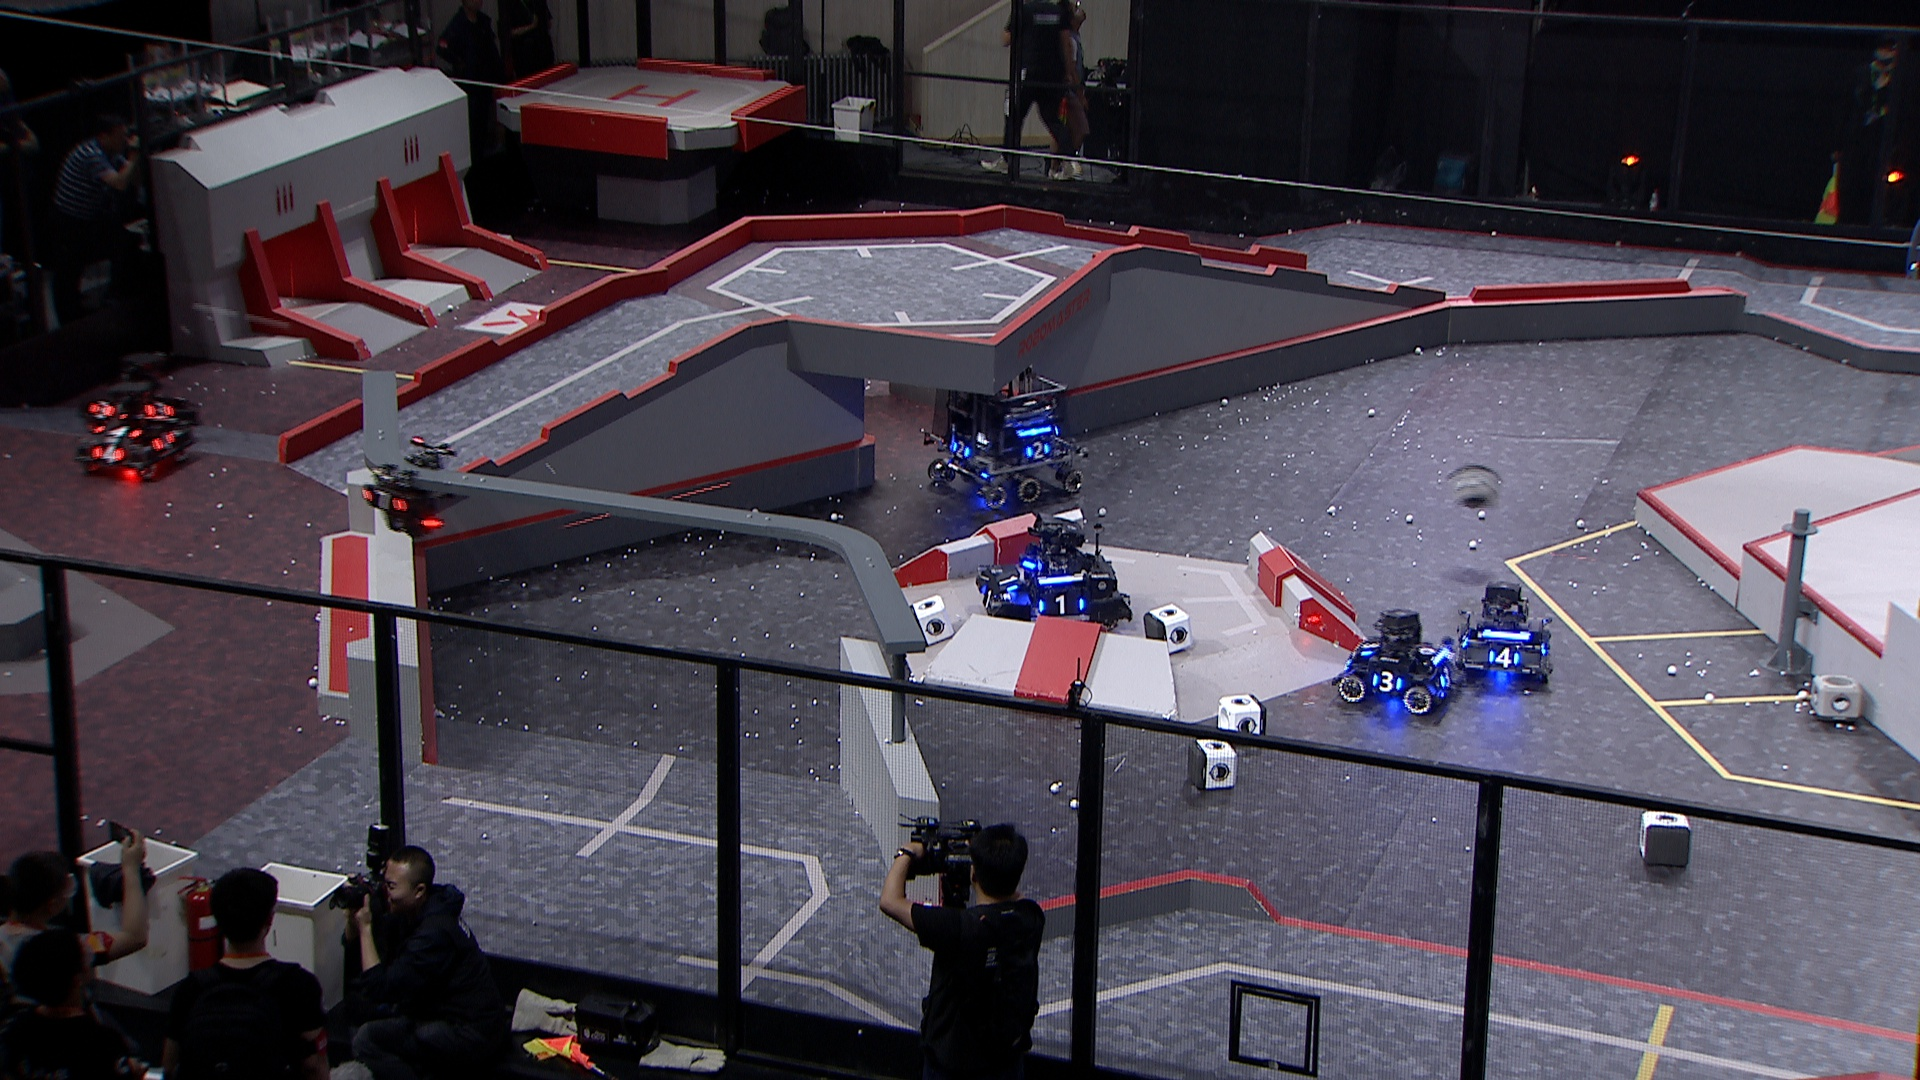armor: (363, 487, 410, 516), (1036, 593, 1088, 617), (1485, 647, 1523, 670), (92, 443, 128, 467), (92, 423, 142, 439), (1371, 670, 1403, 694), (141, 400, 175, 419), (994, 568, 1021, 593), (87, 401, 117, 422), (978, 584, 1001, 612), (150, 431, 178, 452), (949, 439, 973, 462), (1026, 440, 1051, 462), (1360, 638, 1381, 659), (1437, 666, 1457, 688)
car: (923, 363, 1091, 512), (977, 513, 1135, 636), (1333, 608, 1462, 717), (71, 377, 196, 487), (86, 347, 204, 436), (1460, 579, 1555, 688)
watcher: (361, 438, 460, 543)
